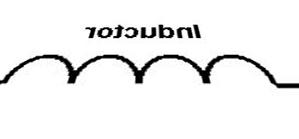inductor: (0, 47, 288, 107)
